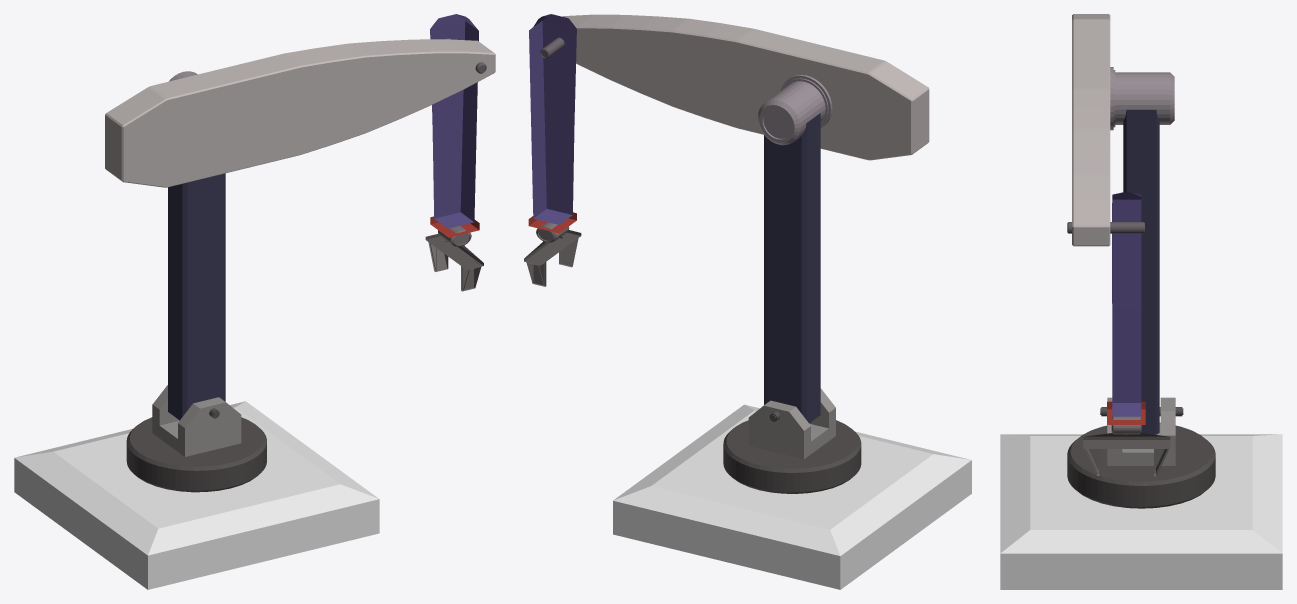
File: Ramie_robota_poprawa.glb
3 views of the same model, side by side, from view 1: azimuth 30°, elevation 25°; view 2: azimuth 150°, elevation 25°; view 3: azimuth 270°, elevation 25° (orthographic). The views are drawn at different scales.
Parts seen in each view (by area): view 1: Arm2, Base, Arm1, Arm3, Base_rotator, Part1, Grabber_link; view 2: Base, Arm2, Arm1, Arm3, Base_rotator, Part1, Arm_rotator, Grabber_link; view 3: Base, Arm2, Arm1, Base_rotator, Arm3, Arm_rotator, Part1, Grabber_link, Screw3, Wrist_rotator, Part2.
Boxes of the visible parts, x1,y1,x2,y2 form: Arm2: (105,39,495,187); Base: (14,401,379,589); Arm1: (168,173,225,420); Arm3: (430,14,478,228); Base_rotator: (126,417,266,492); Part1: (152,385,241,456); Grabber_link: (425,234,483,269); Base: (613,404,971,589); Arm2: (562,14,929,160); Arm1: (764,113,820,423); Arm3: (529,14,576,224); Base_rotator: (723,420,861,493); Part1: (748,388,835,459); Arm_rotator: (758,74,832,145); Grabber_link: (524,230,581,265); Base: (1000,434,1282,589); Arm2: (1072,14,1110,246); Arm1: (1123,109,1159,434); Base_rotator: (1067,422,1215,508); Arm3: (1112,192,1141,416); Arm_rotator: (1110,67,1174,130); Part1: (1107,397,1175,465); Grabber_link: (1083,433,1170,448); Screw3: (1067,222,1144,233); Wrist_rotator: (1111,416,1141,434); Part2: (1107,401,1145,424).
Size of the model in its own units: 9.12 by 10.28 by 5.5.
